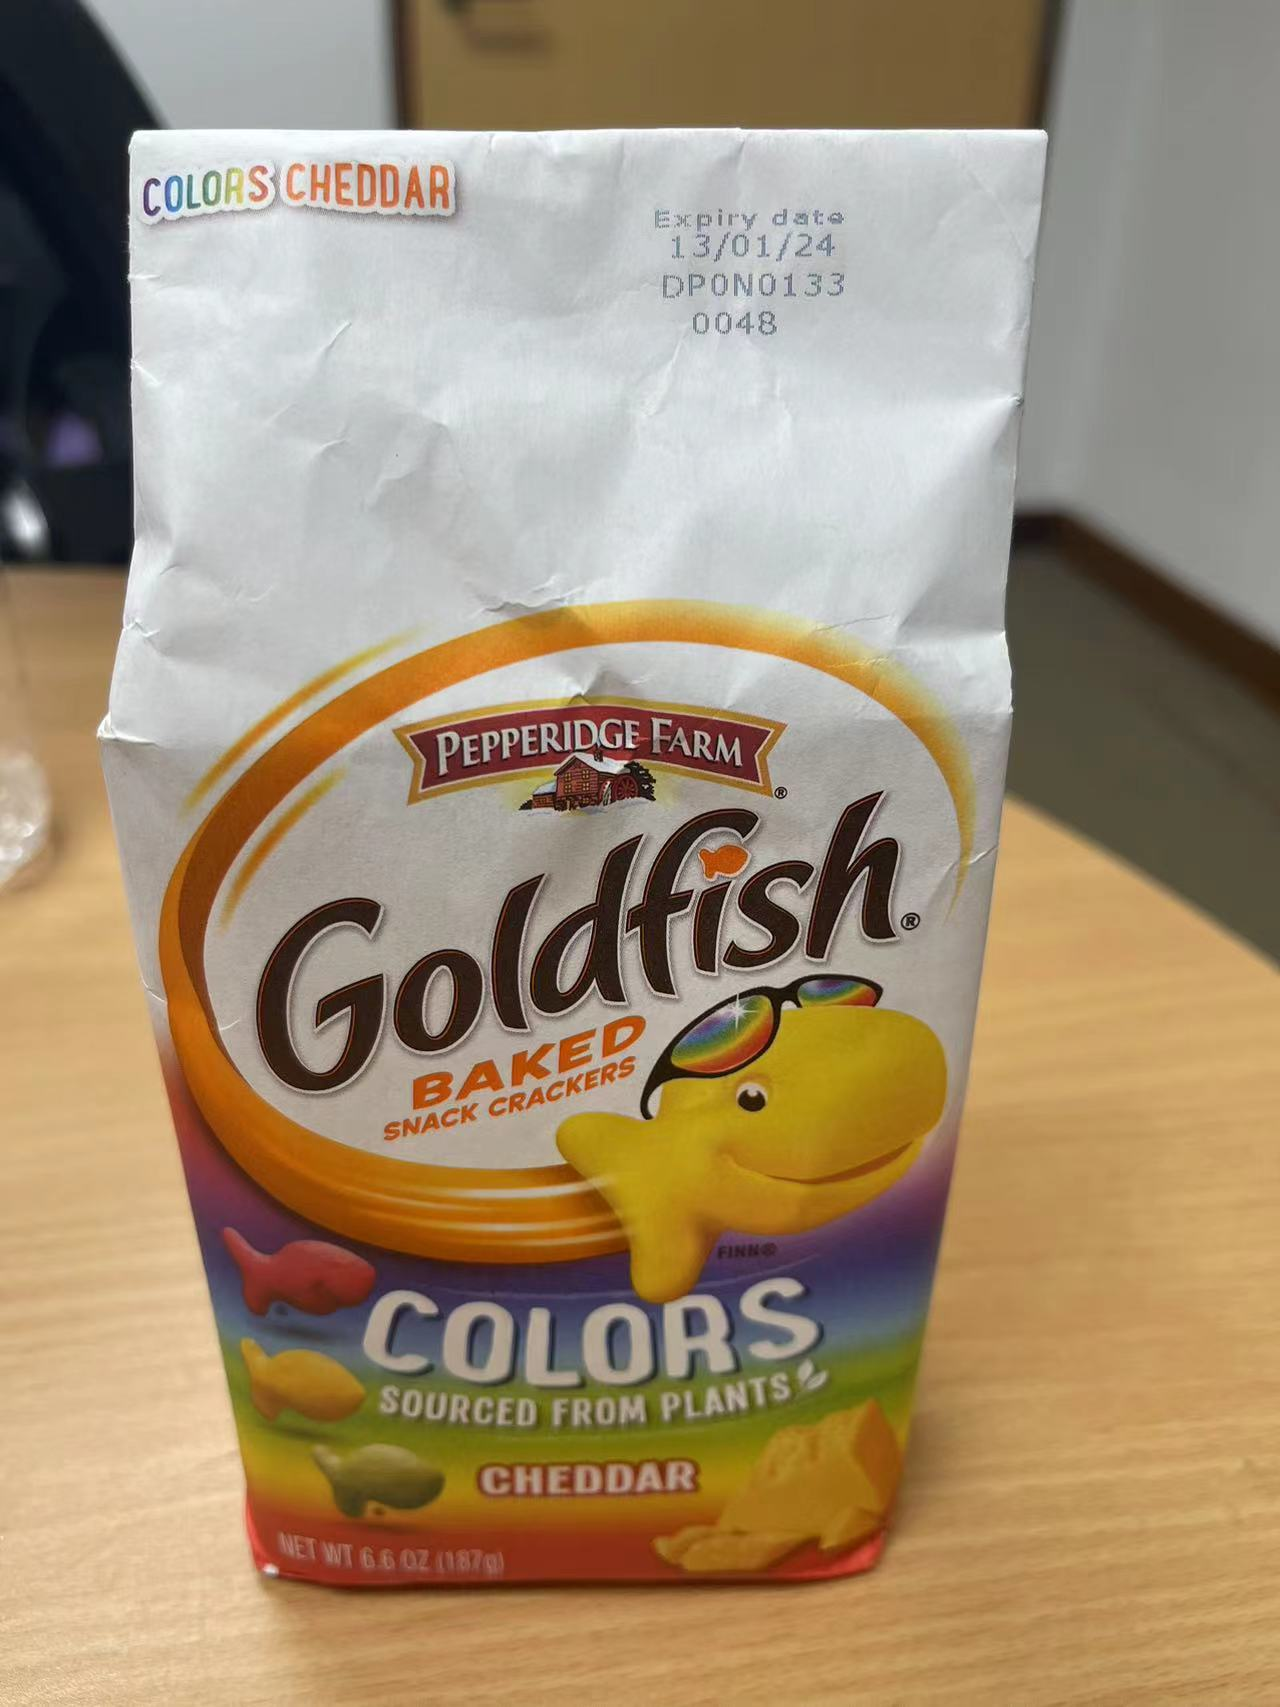Crackers_100-199g_NonHalal_NonHealthy: (130, 133, 994, 1597)
